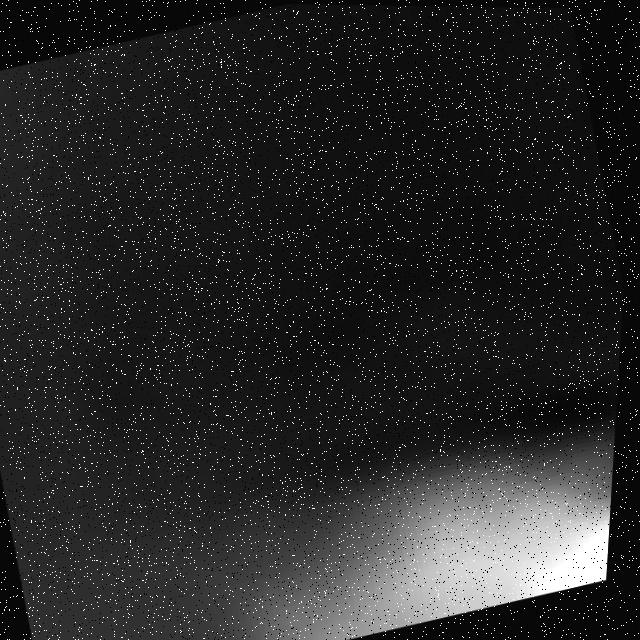person: (240, 395, 623, 640)
